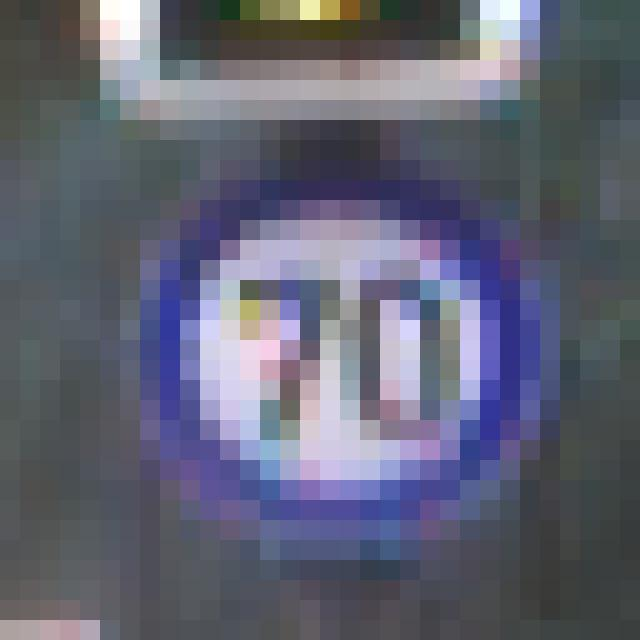SPEED LIMIT 70: (154, 179, 518, 551)
